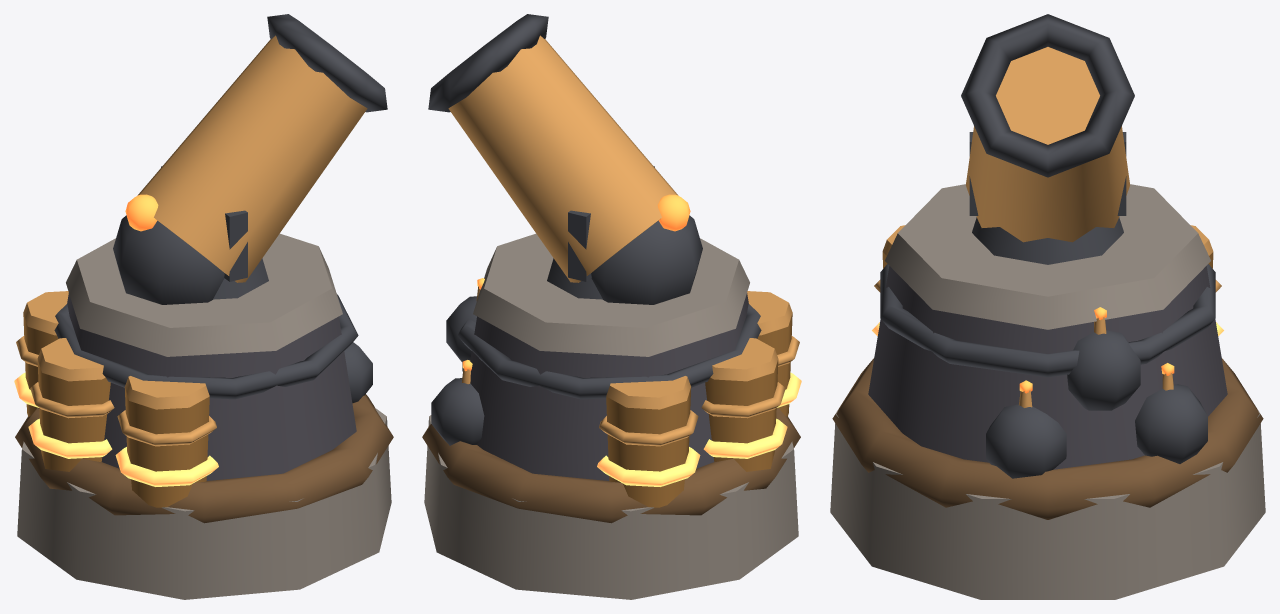
The model's file is tower_mine_demolition.glb.
The picture shows the model from 3 angles, left to right: view 1: azimuth 30°, elevation 25°; view 2: azimuth 150°, elevation 25°; view 3: azimuth 270°, elevation 25°; orthographic projection. The views are drawn at different scales.
Visible parts, largest first — view 1: base, mortar_tube, bunker, bunker_cap, earthwall, mortar_breech, bunker_band, barrel_0, barrel_2, mortar_mouth, barrel_lid_0, barrel_lid_2 (+10 smaller); view 2: base, mortar_tube, bunker_cap, bunker, earthwall, mortar_breech, barrel_1, bunker_band, barrel_2, mortar_mouth, big_mine_0, barrel_lid_1 (+11 smaller); view 3: base, bunker, bunker_cap, earthwall, mortar_tube, mortar_mouth, bunker_band, big_mine_1, big_mine_2, big_mine_0, turret_yoke.
Boxes of the visible parts, box(x1,y1,x2,y2) form: base: box(17, 407, 391, 599); mortar_tube: box(137, 35, 367, 282); bunker: box(67, 293, 356, 480); bunker_cap: box(66, 233, 342, 356); earthwall: box(15, 394, 393, 523); mortar_breech: box(113, 215, 224, 304); bunker_band: box(54, 294, 358, 399); barrel_0: box(124, 387, 209, 507); barrel_2: box(37, 359, 110, 471); mortar_mouth: box(267, 14, 387, 112); barrel_lid_0: box(125, 376, 209, 409); barrel_lid_2: box(37, 338, 105, 381); base: box(424, 415, 798, 599); mortar_tube: box(448, 35, 678, 282); bunker_cap: box(473, 233, 749, 356); bunker: box(470, 293, 748, 480); earthwall: box(422, 408, 800, 523); mortar_breech: box(591, 215, 702, 304); barrel_1: box(606, 387, 691, 507); bunker_band: box(457, 304, 761, 399); barrel_2: box(705, 359, 778, 471); mortar_mouth: box(428, 14, 548, 112); big_mine_0: box(431, 378, 484, 445); barrel_lid_1: box(606, 376, 690, 409); base: box(830, 411, 1265, 599); bunker: box(868, 266, 1227, 469); bunker_cap: box(885, 184, 1210, 329); earthwall: box(832, 358, 1263, 519); mortar_tube: box(966, 47, 1129, 242); mortar_mouth: box(961, 14, 1134, 177); bunker_band: box(880, 264, 1215, 377); big_mine_1: box(986, 404, 1066, 478); big_mine_2: box(1067, 330, 1140, 410); big_mine_0: box(1135, 384, 1207, 463); turret_yoke: box(972, 217, 1123, 264).
Bounding box in the file's own units: 0.4111 × 0.5481 × 0.4.
